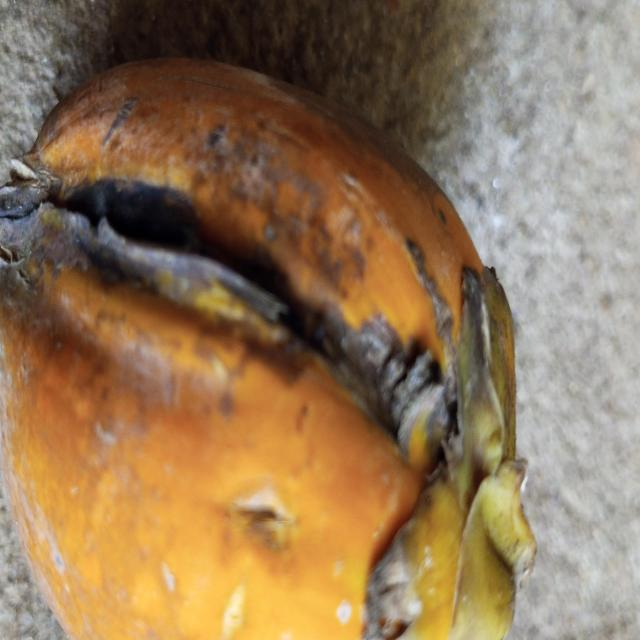damaged: (0, 59, 536, 640)
